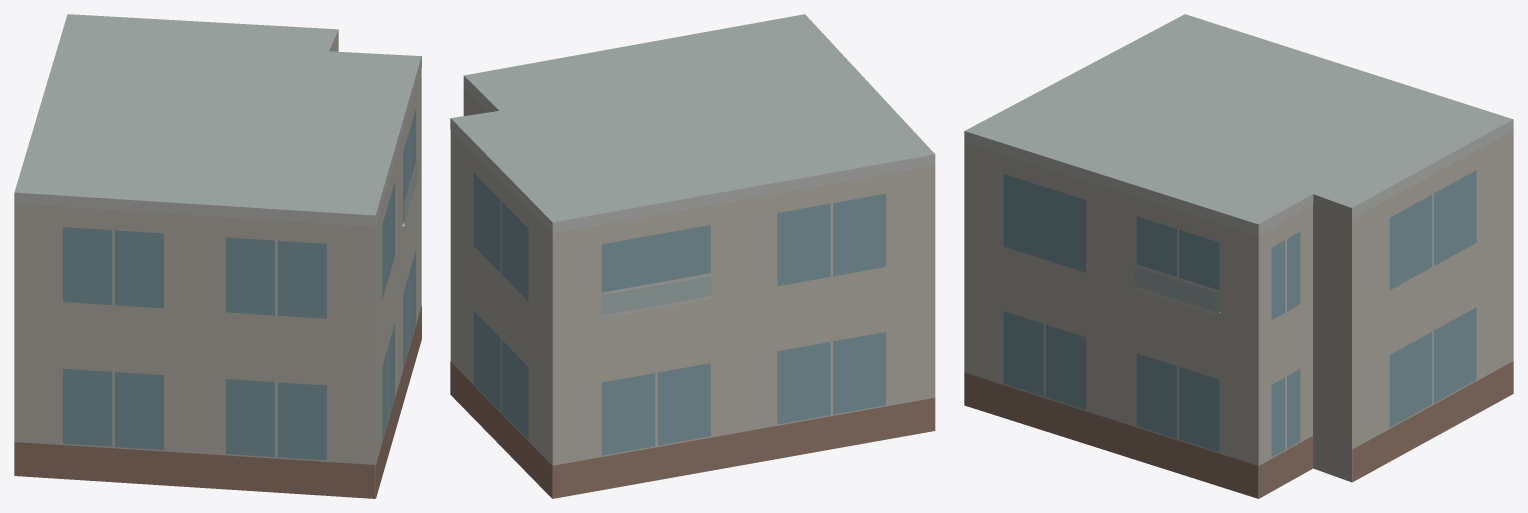
Rendered from survey-upis-32809114.glb.
The picture shows the model from 3 angles, left to right: view 1: azimuth 30°, elevation 25°; view 2: azimuth 150°, elevation 25°; view 3: azimuth 270°, elevation 25°; orthographic projection. The views are drawn at different scales.
Visible parts, largest first — view 1: survey-upis-32809114.tmp; view 2: survey-upis-32809114.tmp; view 3: survey-upis-32809114.tmp.
Boxes of the visible parts, x1,y1,x2,y2 form: survey-upis-32809114.tmp: [14, 14, 421, 498]; survey-upis-32809114.tmp: [450, 14, 935, 498]; survey-upis-32809114.tmp: [964, 14, 1513, 498].
Size of the model in its own units: 10.04 by 6.1 by 11.07.
